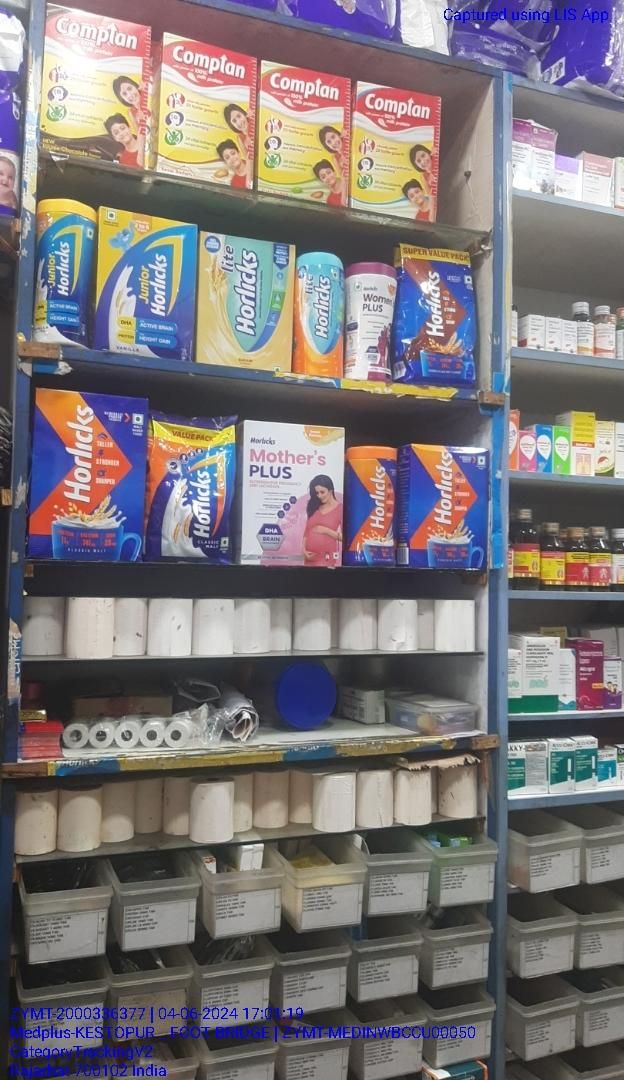HORLICKS_LITE_REGULAR_MALT_500_GM_JAR: (296, 252, 345, 372)
HORLICK_CHOCOLATE_500_G_PACK: (403, 443, 488, 572)
